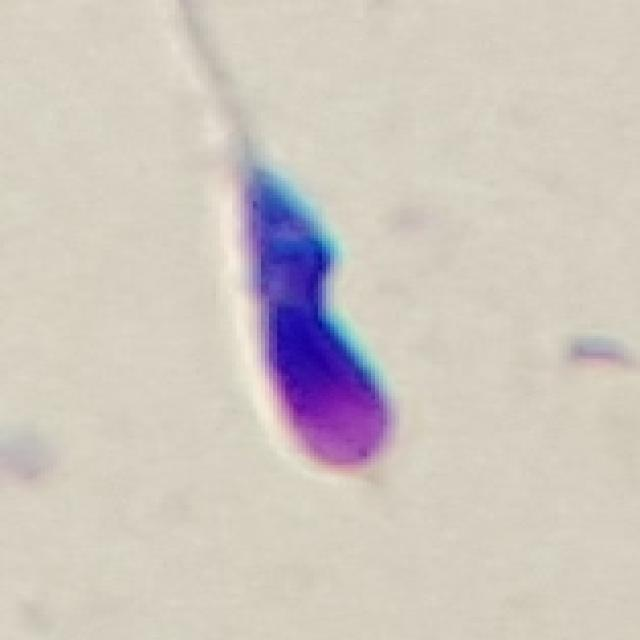abnormal sperm: (148, 54, 413, 478)
